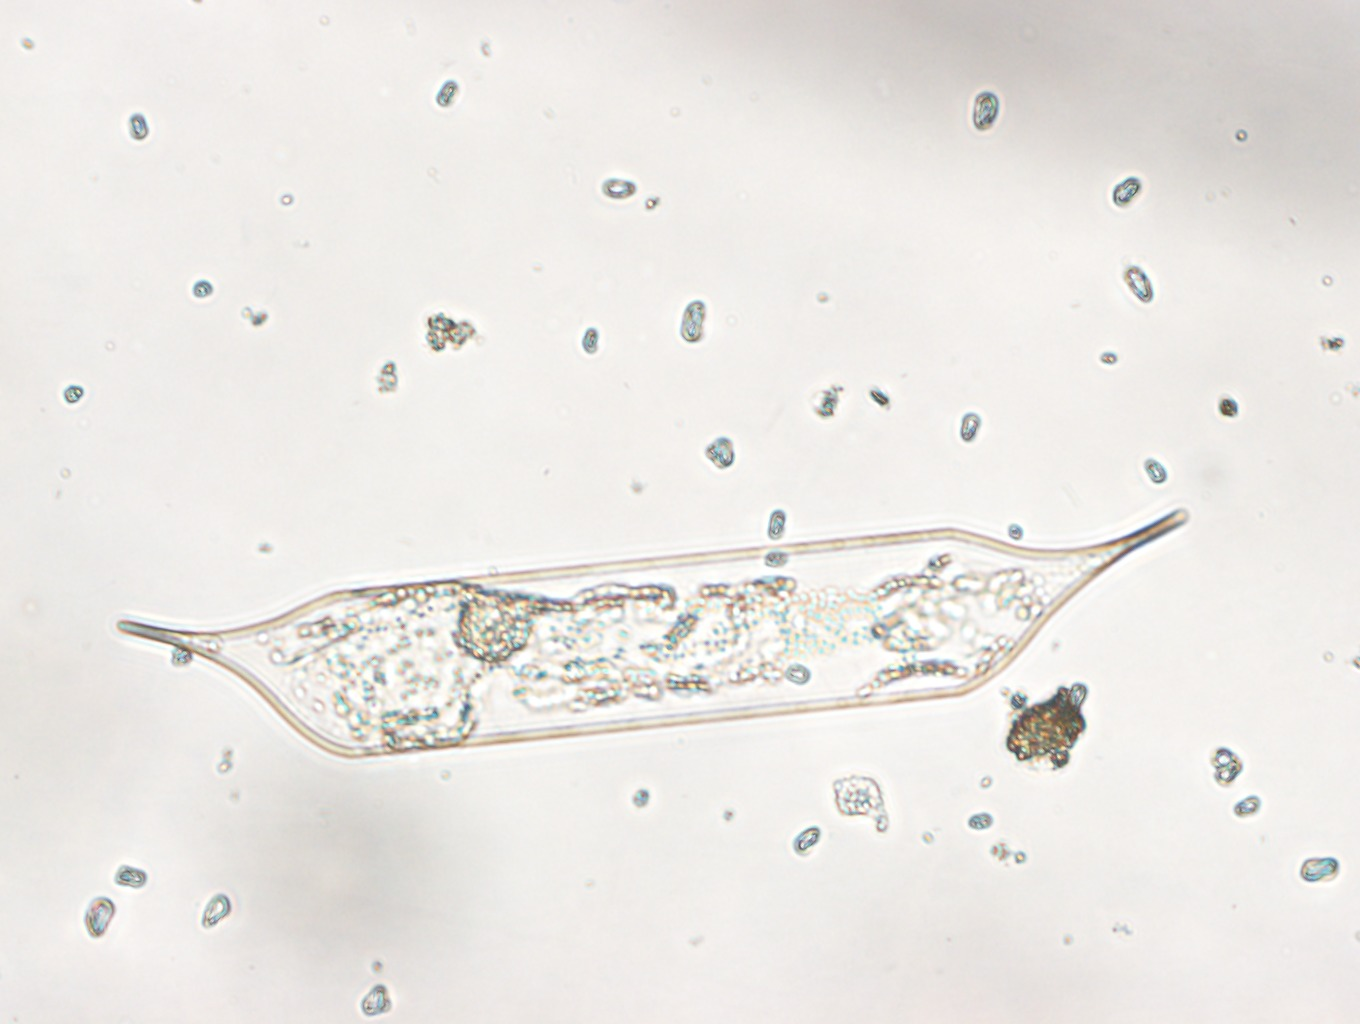rhizosolenia: (121, 504, 1190, 760)
